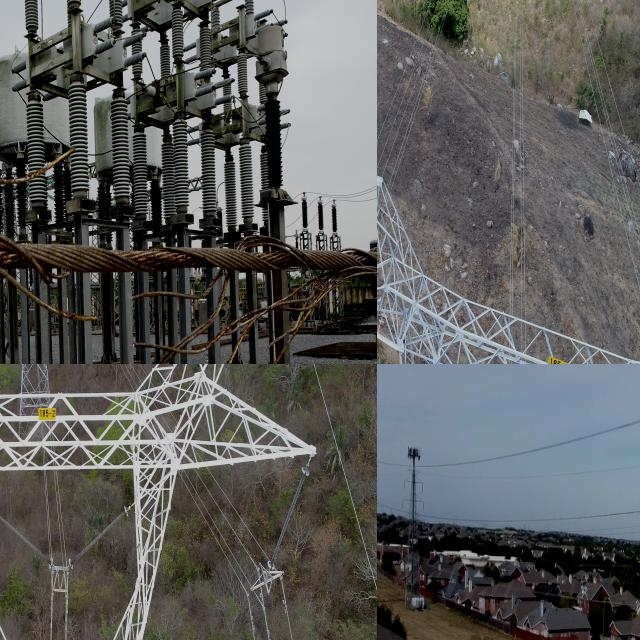杆塔: (0, 364, 295, 640), (377, 143, 640, 364), (399, 439, 428, 611)
正常电缆: (307, 364, 377, 613)
正常绝缘子: (263, 464, 315, 567), (67, 503, 130, 572), (0, 511, 53, 570), (421, 482, 424, 493), (422, 501, 424, 514), (403, 480, 405, 491), (402, 498, 404, 509)
电缆破损: (0, 147, 377, 364)
